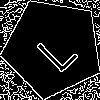L: (27, 22, 80, 75)
